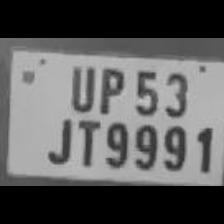1: (190, 122, 216, 174)
3: (160, 66, 190, 118)
5: (128, 64, 160, 116)
9: (158, 122, 188, 170), (100, 118, 128, 168), (130, 120, 158, 170)
J: (42, 109, 74, 165)
P: (94, 62, 126, 114)
T: (69, 114, 100, 168)
U: (65, 62, 97, 113)
